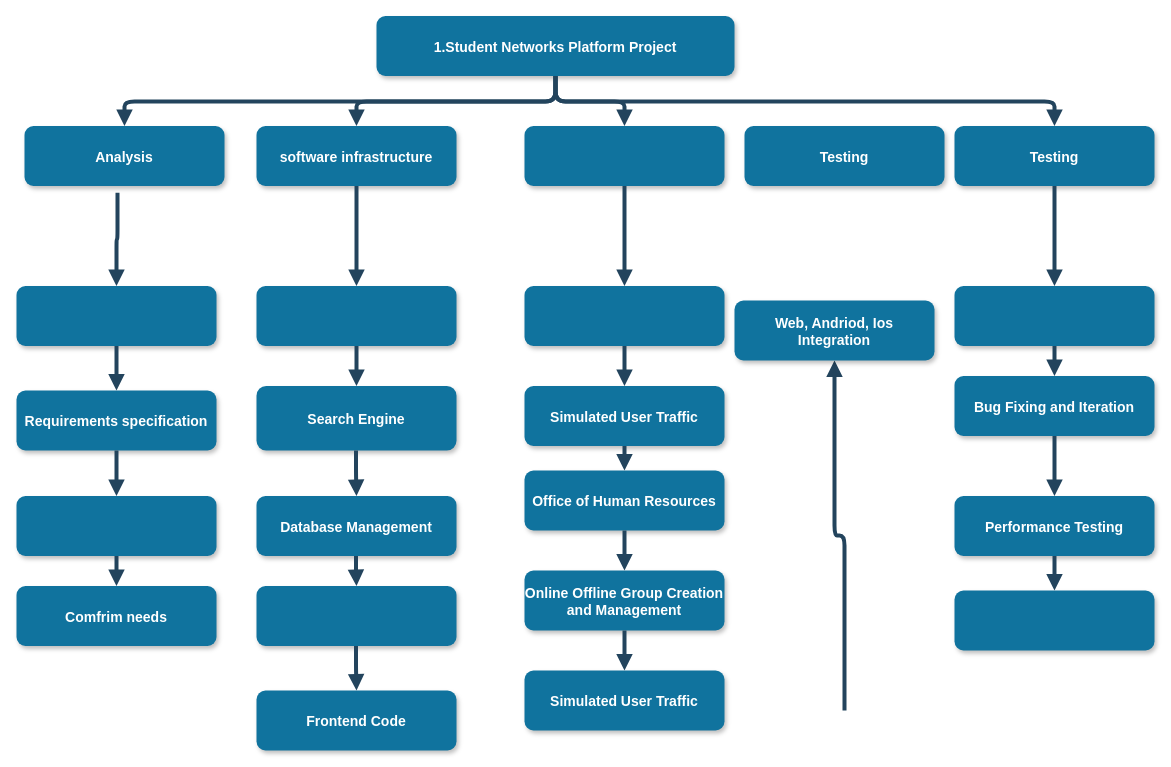
Image size: 1171x767. Some labels were removed from this diagram. The shapes that lost their labels are listed below. From the top down, each one's centre as x and y in pixels, then its label:
At point (625, 157): "Features".
At point (117, 317): "Questionnaires and surveys".
At point (357, 317): "User-Friendly Interface design".
At point (625, 317): "Location-based Search Functionality".
At point (1055, 317): "Functional Testing".
At point (117, 527): "Use cases".
At point (357, 617): "Backend Code".
At point (1055, 621): "Pressure Testing".
